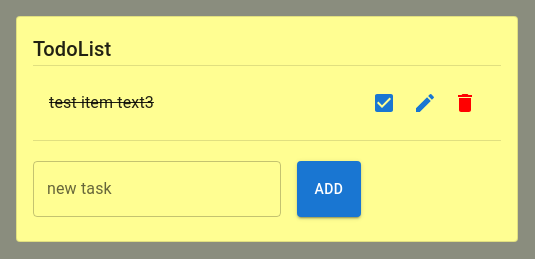
Edit › Rendering of Edit component
Click the button with test id "CreateIcon" at (425, 103), box x1=405 y1=83 x2=445 y2=123
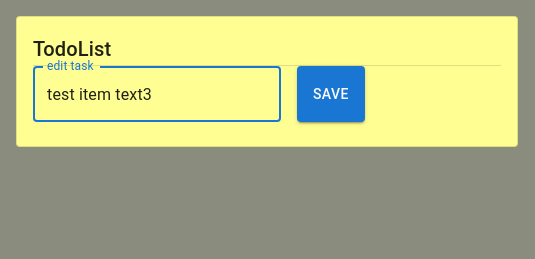
Check: the text "edit task" is shown, box x1=47 y1=57 x2=94 y2=74
